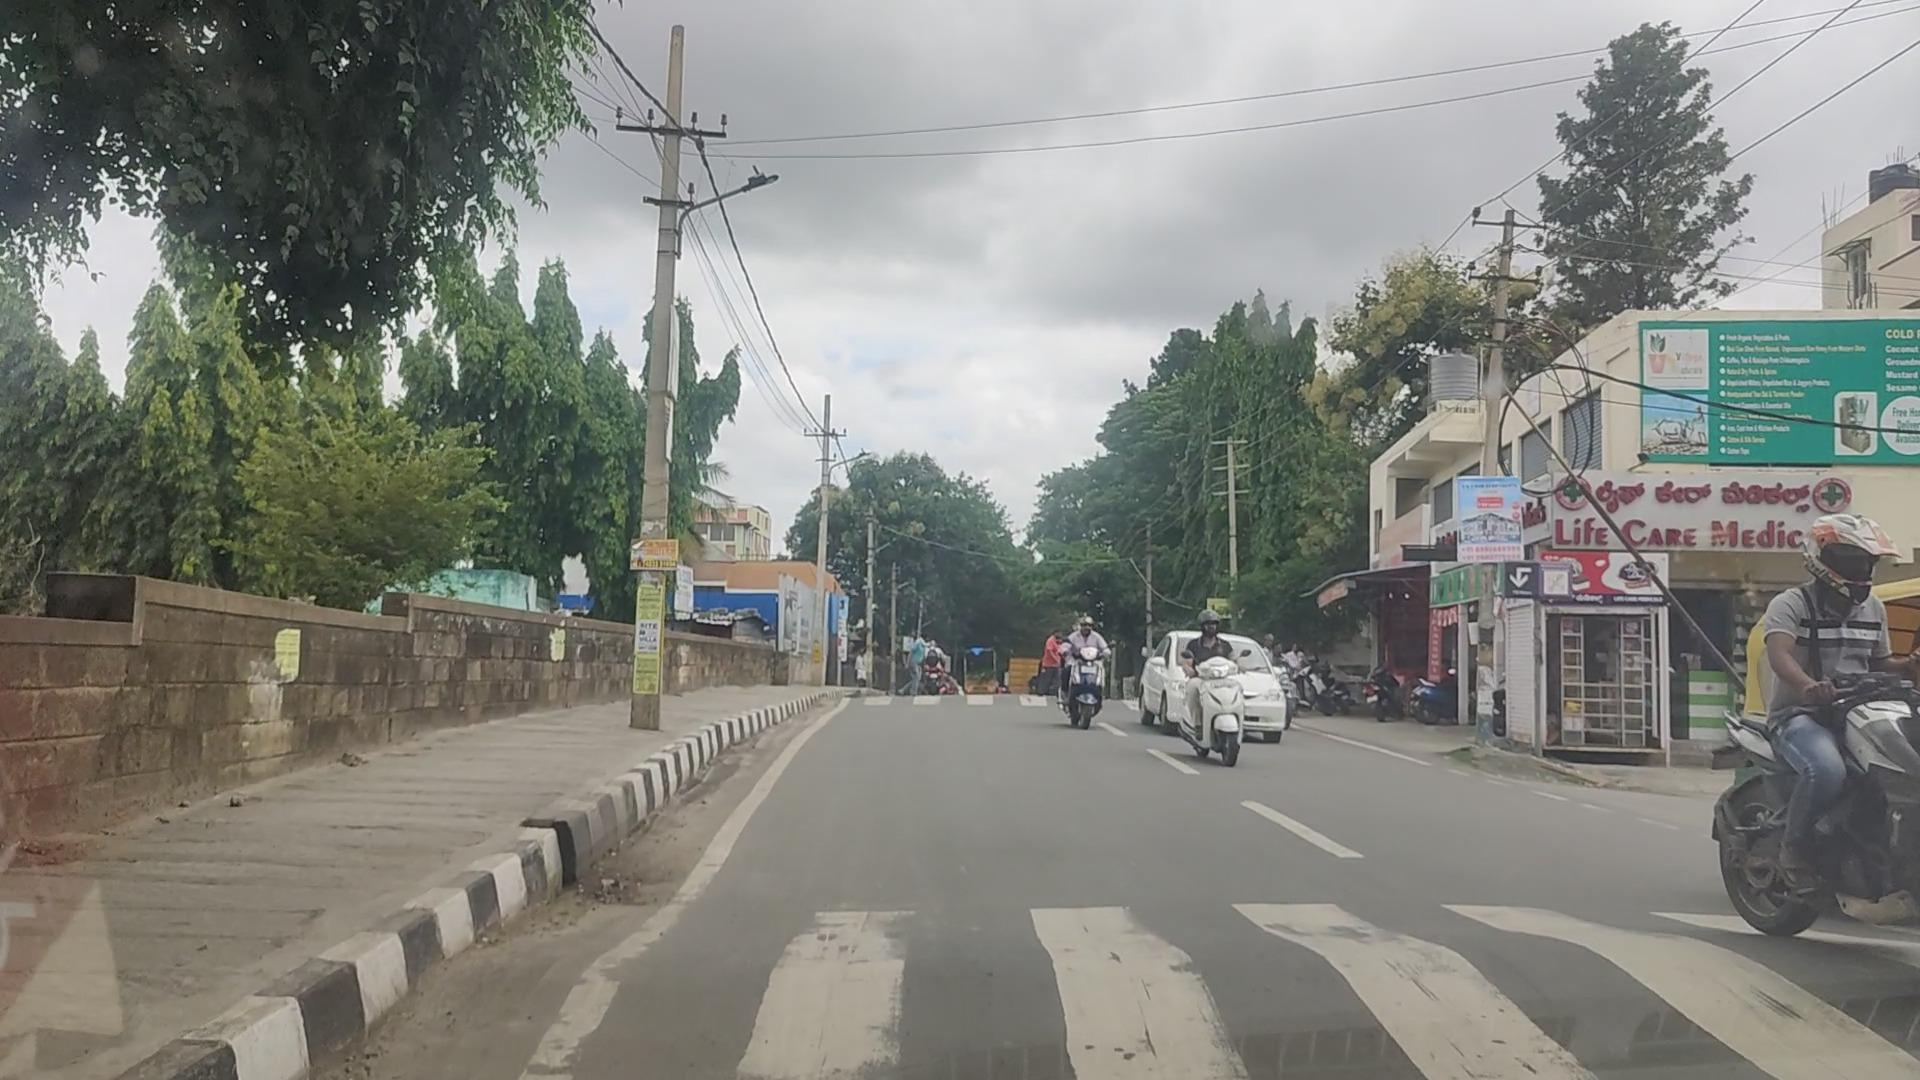LMV: (1184, 604, 1265, 775)
SpeedBump: (570, 922, 1919, 1072)
